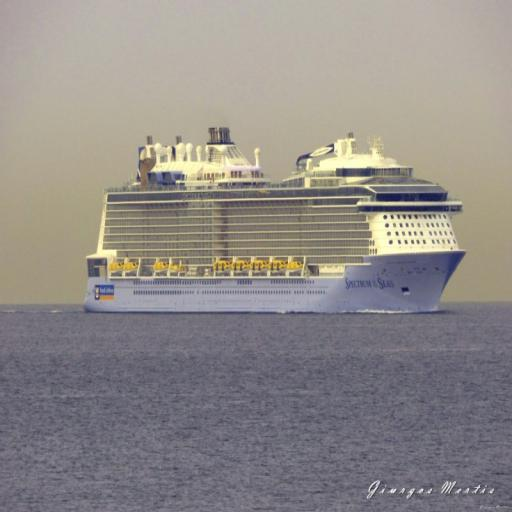cruises: (81, 124, 471, 319)
